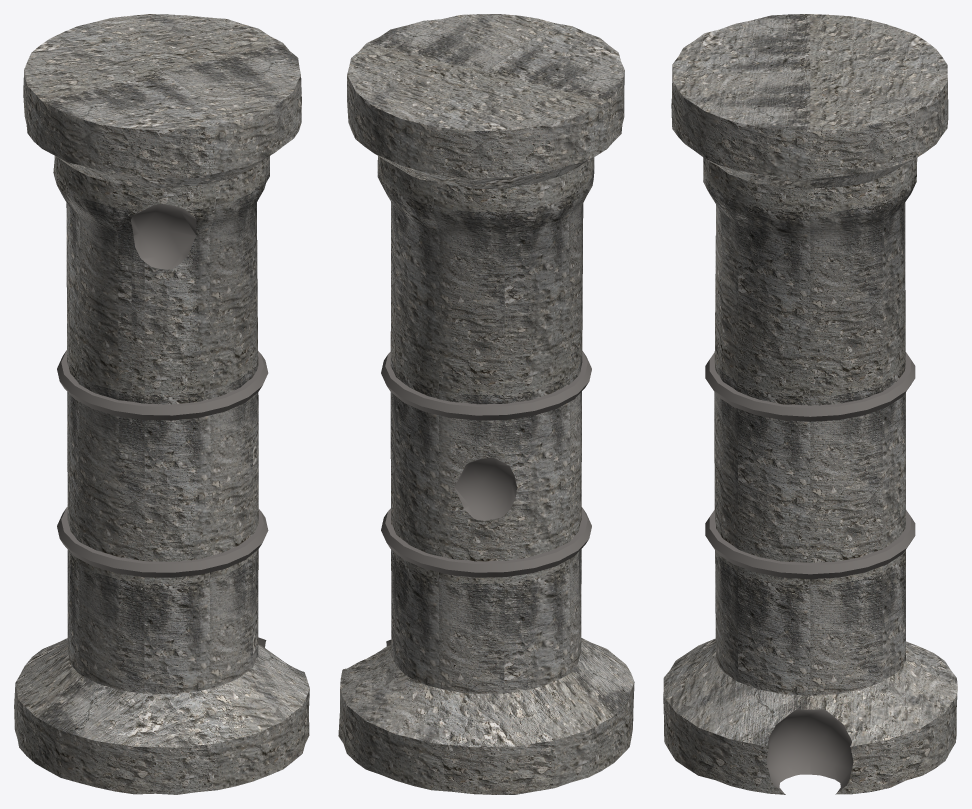
Rendered from pillar-v02.glb.
3 views of the same model, side by side, from view 1: azimuth 30°, elevation 25°; view 2: azimuth 150°, elevation 25°; view 3: azimuth 270°, elevation 25° (orthographic).
Parts seen in each view (by area): view 1: pillar; view 2: pillar; view 3: pillar.
Boxes of the visible parts, left/top/right/bottom form: pillar: left=14, top=14, right=309, bottom=794; pillar: left=338, top=14, right=634, bottom=794; pillar: left=663, top=14, right=957, bottom=794.
Bounding box in the file's own units: 1.68 × 4.21 × 1.7.
1 material, 1 textured.
